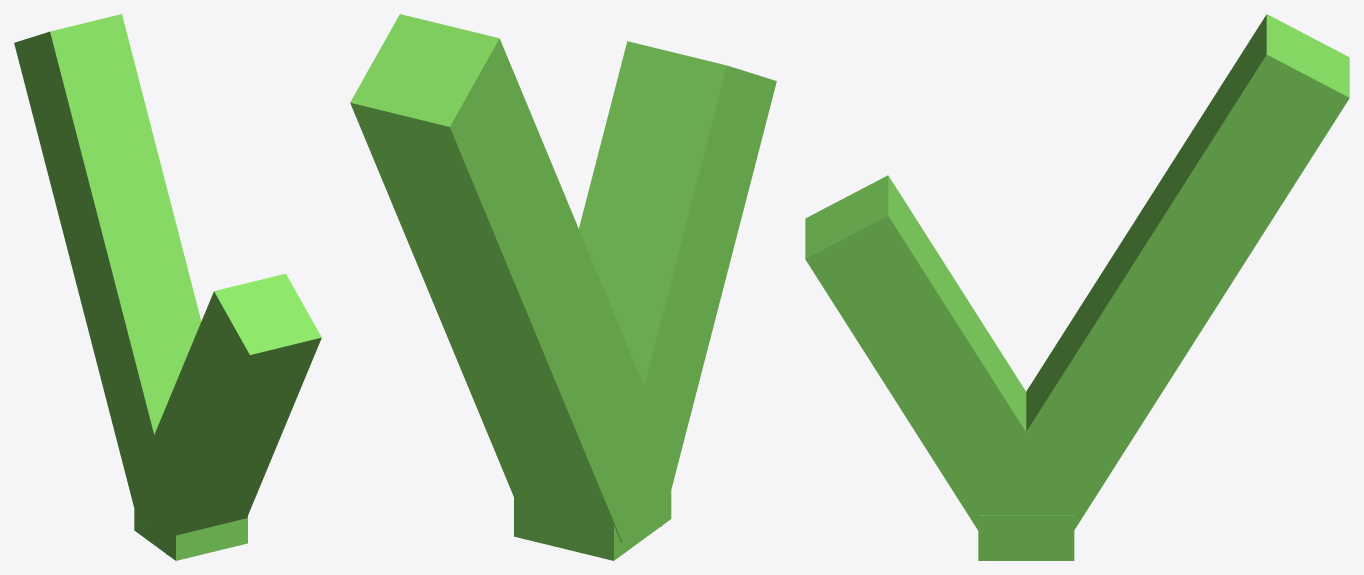
File: correct.glb
The picture shows the model from 3 angles, left to right: view 1: azimuth 30°, elevation 25°; view 2: azimuth 150°, elevation 25°; view 3: azimuth 270°, elevation 25°; orthographic projection. The views are drawn at different scales.
Visible parts, largest first — view 1: Cube; view 2: Cube; view 3: Cube.
Boxes of the visible parts, x1,y1,x2,y2 form: Cube: [14, 14, 321, 560]; Cube: [350, 14, 776, 560]; Cube: [805, 14, 1349, 560].
Size of the model in its own units: 0.1014 by 0.5822 by 0.5681.
